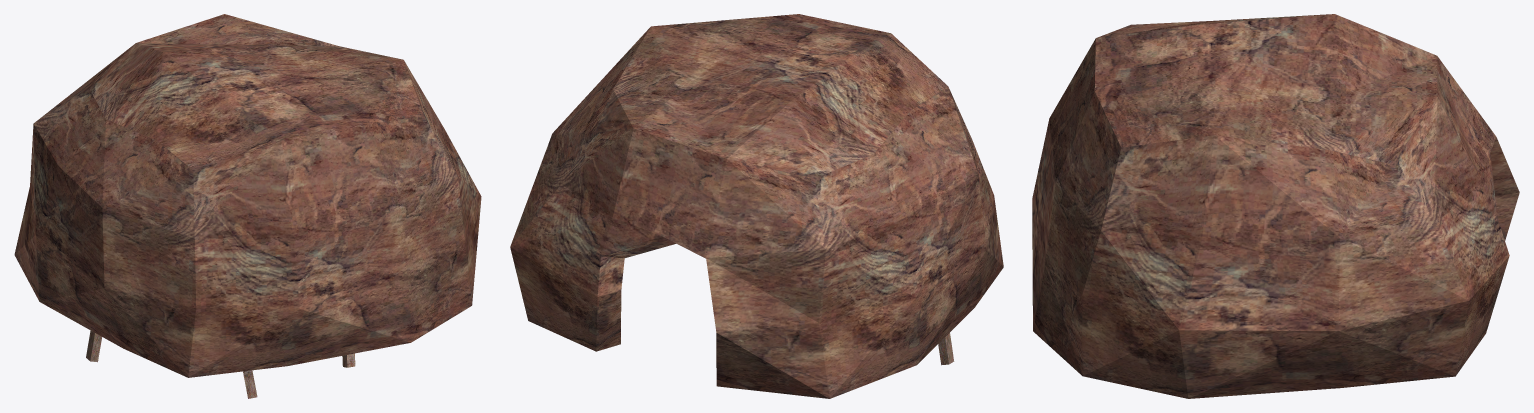
Rendered from thm_dath_night_sister_tent_house_s01_l2.fbx.
3 renders of one model, left to right at view 1: azimuth 30°, elevation 25°; view 2: azimuth 150°, elevation 25°; view 3: azimuth 270°, elevation 25°, orthographic. The views are drawn at different scales.
Visible parts, largest first — view 1: mesh_node; view 2: mesh_node; view 3: mesh_node.
Part boxes in pixels (x1,y1,x2,y2): mesh_node: [14, 14, 481, 398]; mesh_node: [510, 14, 1003, 398]; mesh_node: [1032, 14, 1519, 398].
Bounding box in the file's own units: 9.92 × 6.47 × 9.86.
